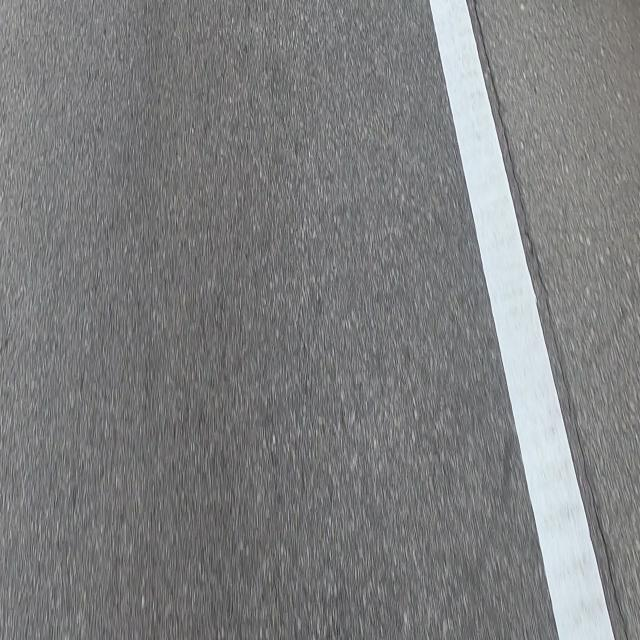Retak-Memanjang: (468, 0, 631, 640)
